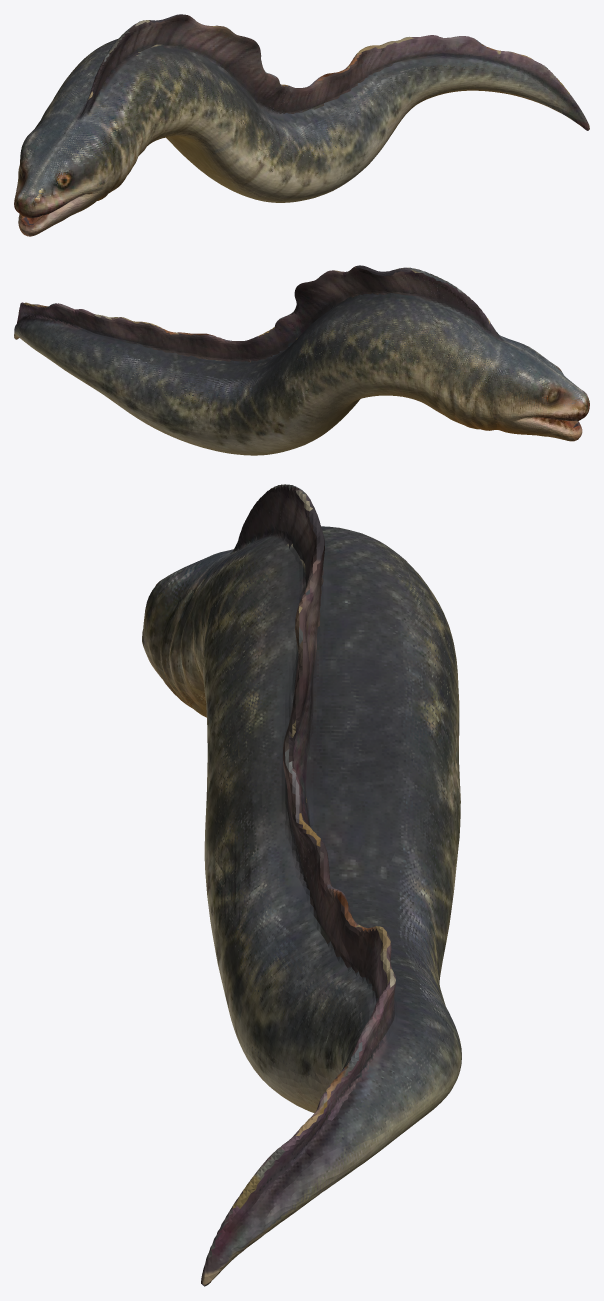
Rendered from sea_eel.glb.
3 views of the same model, one above another, from view 1: azimuth 30°, elevation 25°; view 2: azimuth 150°, elevation 25°; view 3: azimuth 270°, elevation 25° (orthographic). The views are drawn at different scales.
Parts seen in each view (by area): view 1: temp_mesh.ply; view 2: temp_mesh.ply; view 3: temp_mesh.ply.
Boxes of the visible parts, <box> form: temp_mesh.ply: <box>14,14,589,236</box>; temp_mesh.ply: <box>14,265,589,455</box>; temp_mesh.ply: <box>142,484,461,1286</box>.
Size of the model in its own units: 1.97 by 0.709 by 0.4807.
Materials: 1 (1 with a texture image).
